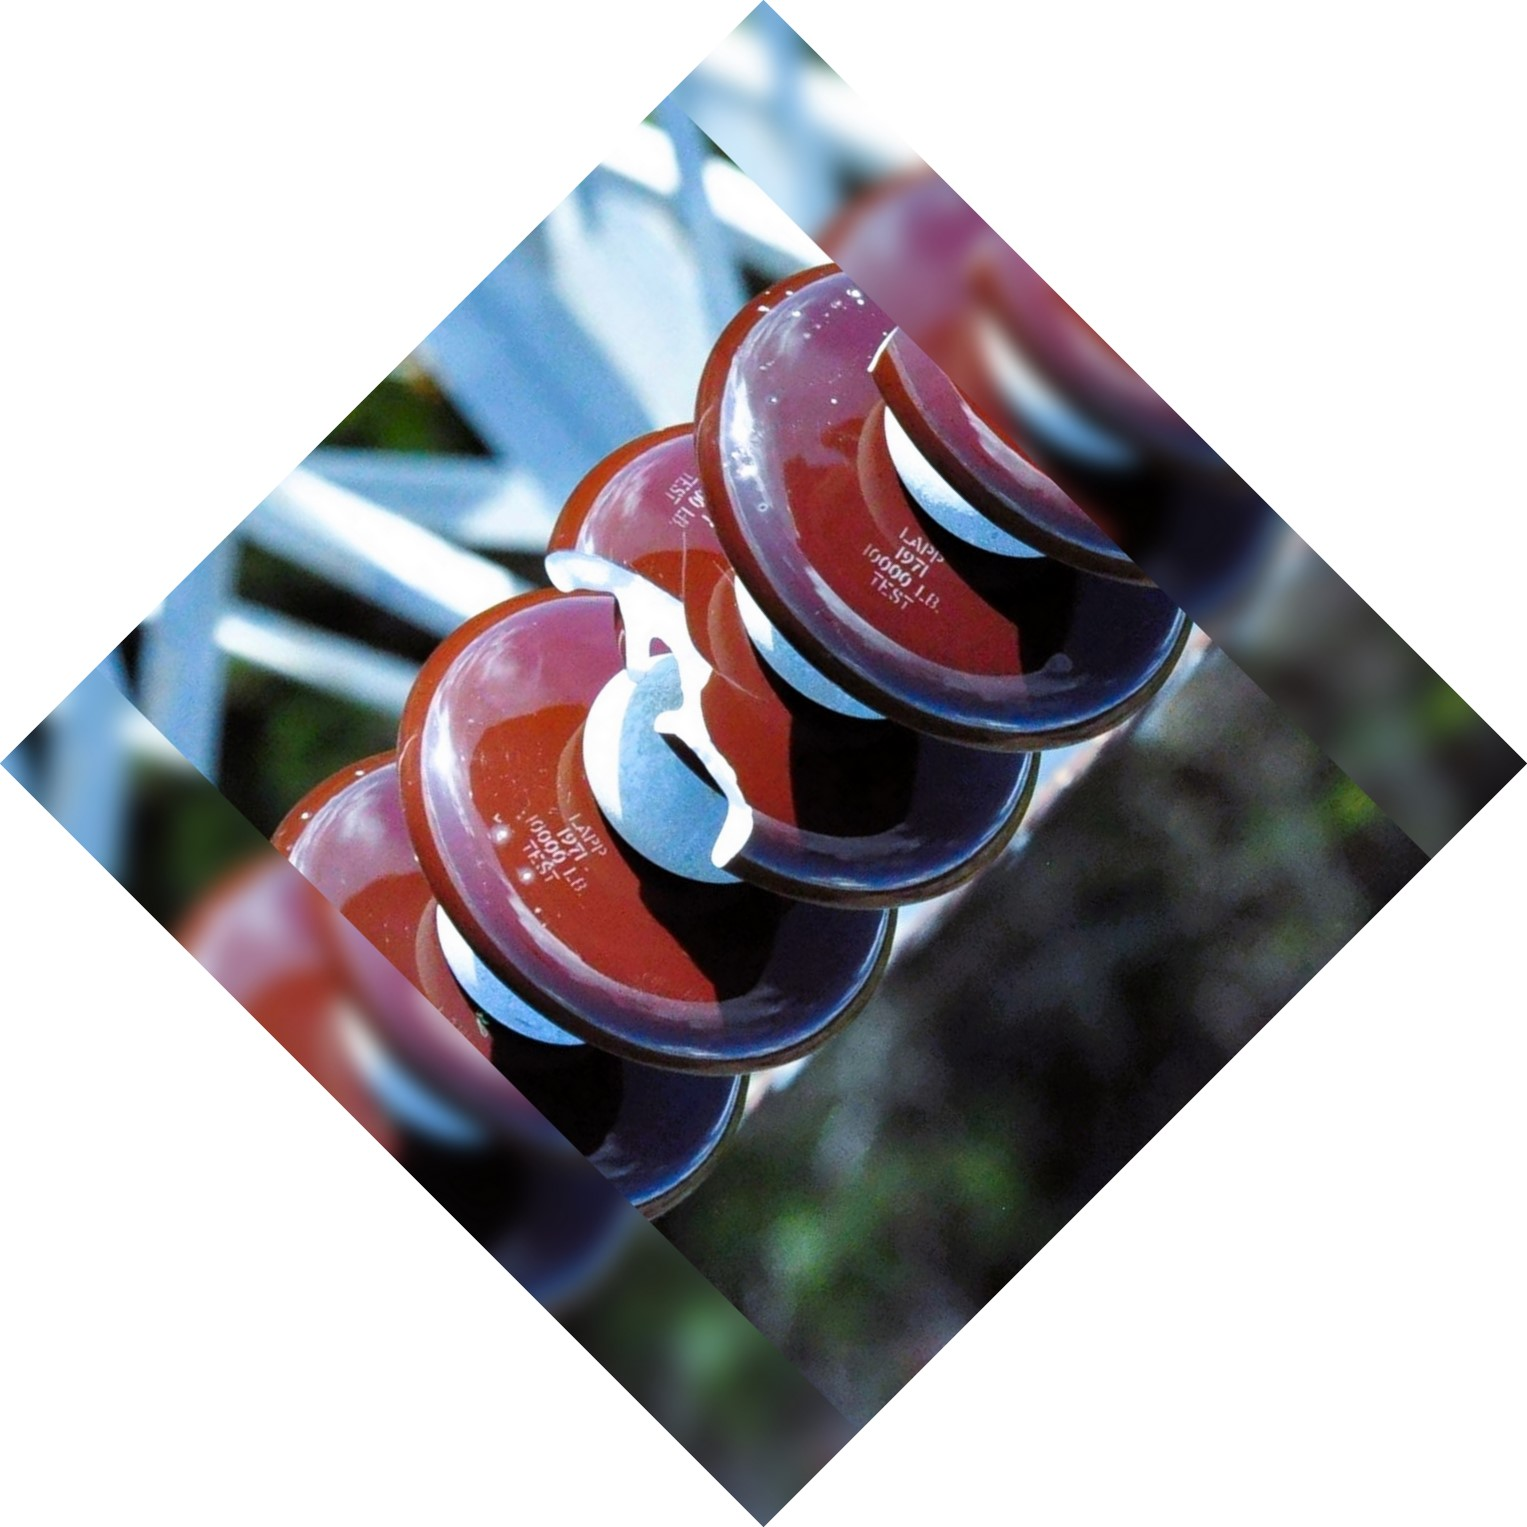insulator breakage: (536, 464, 1005, 923)
